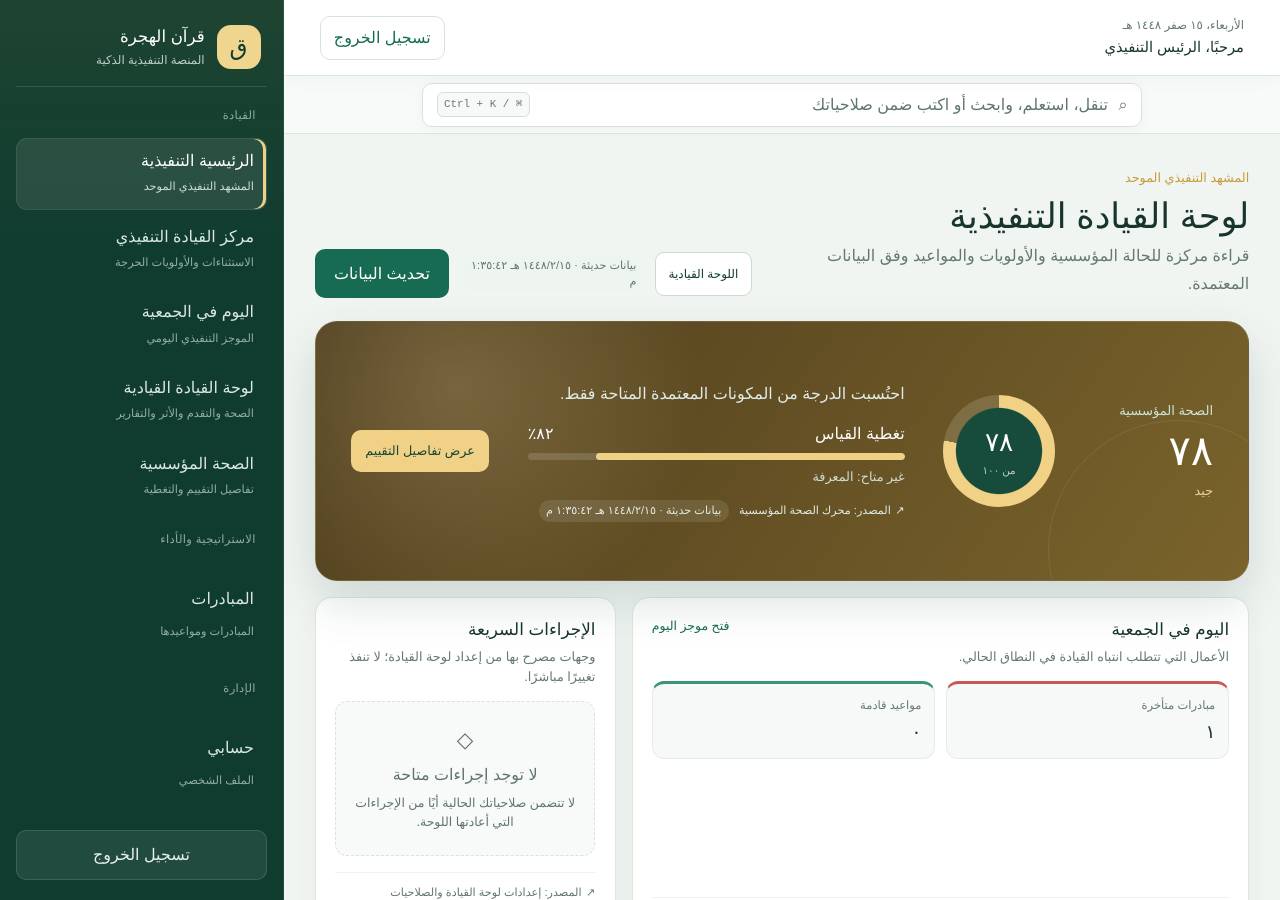
Test: Sprint 1C governed executive Smart Bar › runs structured queries explicitly, reports source and limitations, and retains input on error
The width and height of the screenshot is (1280, 900).
Check: the heading "لوحة القيادة التنفيذية" is shown, box [949, 196, 1249, 234]
Press k
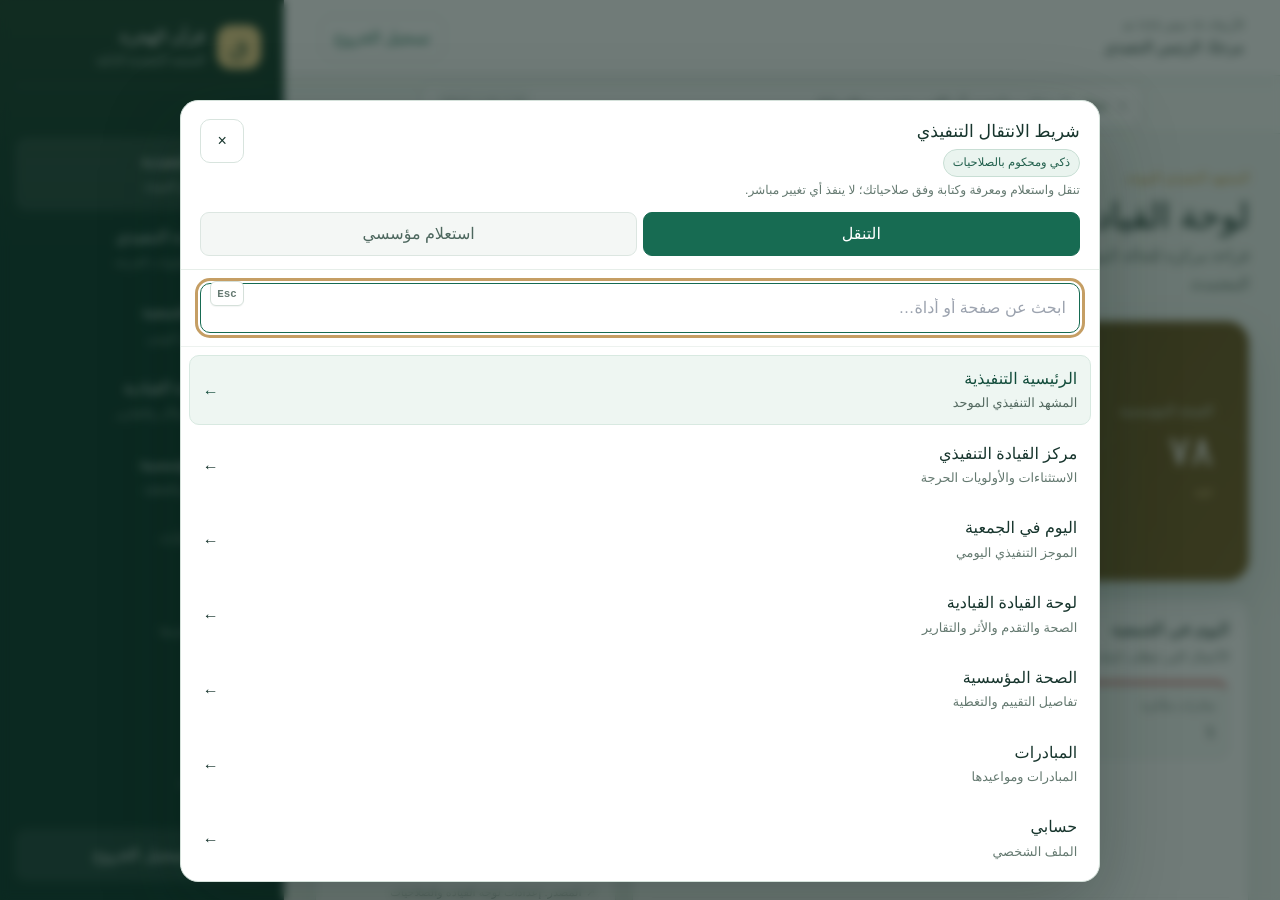
Click the tab "استعلام مؤسسي" at (419, 234), box [200, 212, 637, 256]
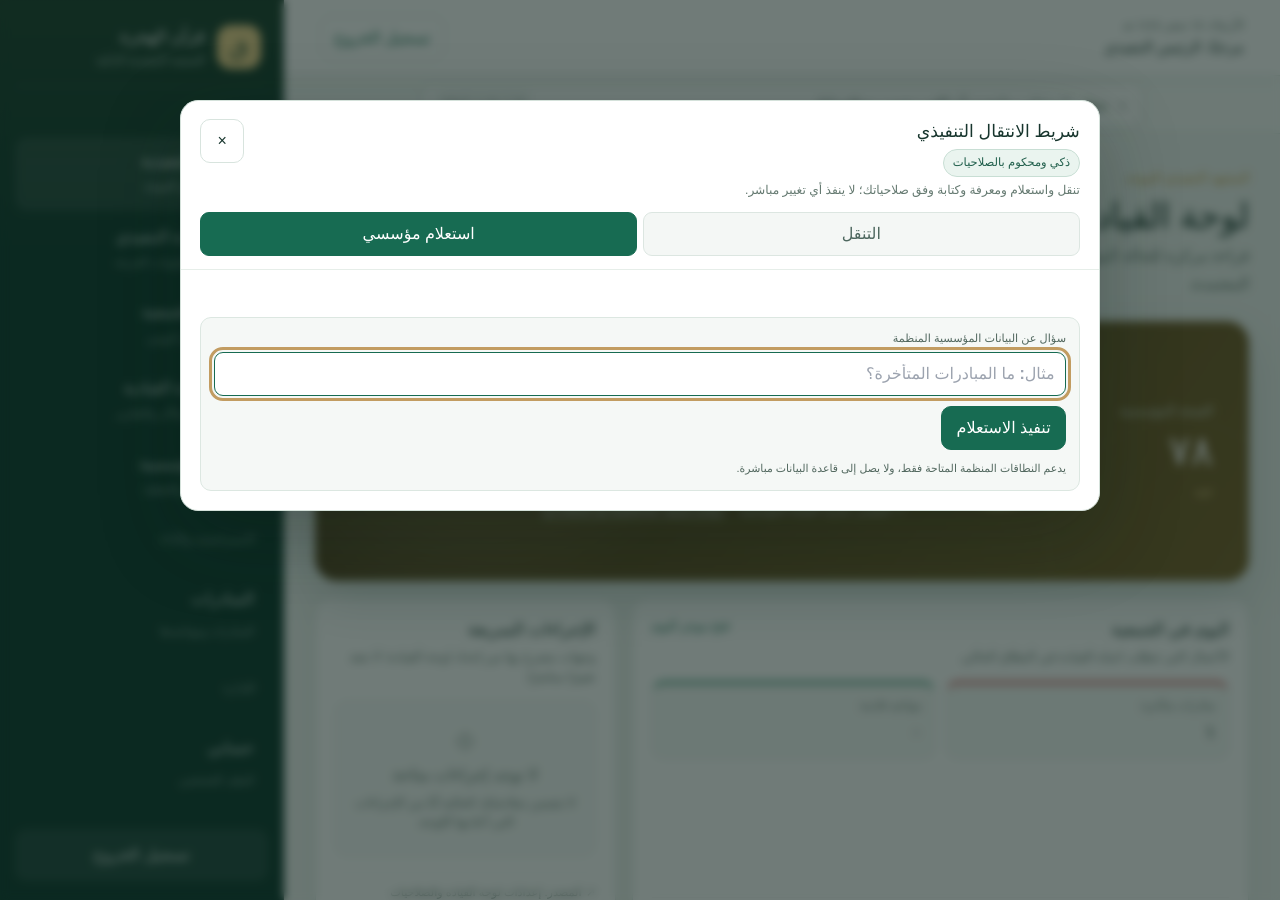
Type "ما المبادرات المتأخرة؟" into the field labelled "سؤال عن البيانات المؤسسية المنظمة" at (640, 374), box [214, 352, 1066, 396]
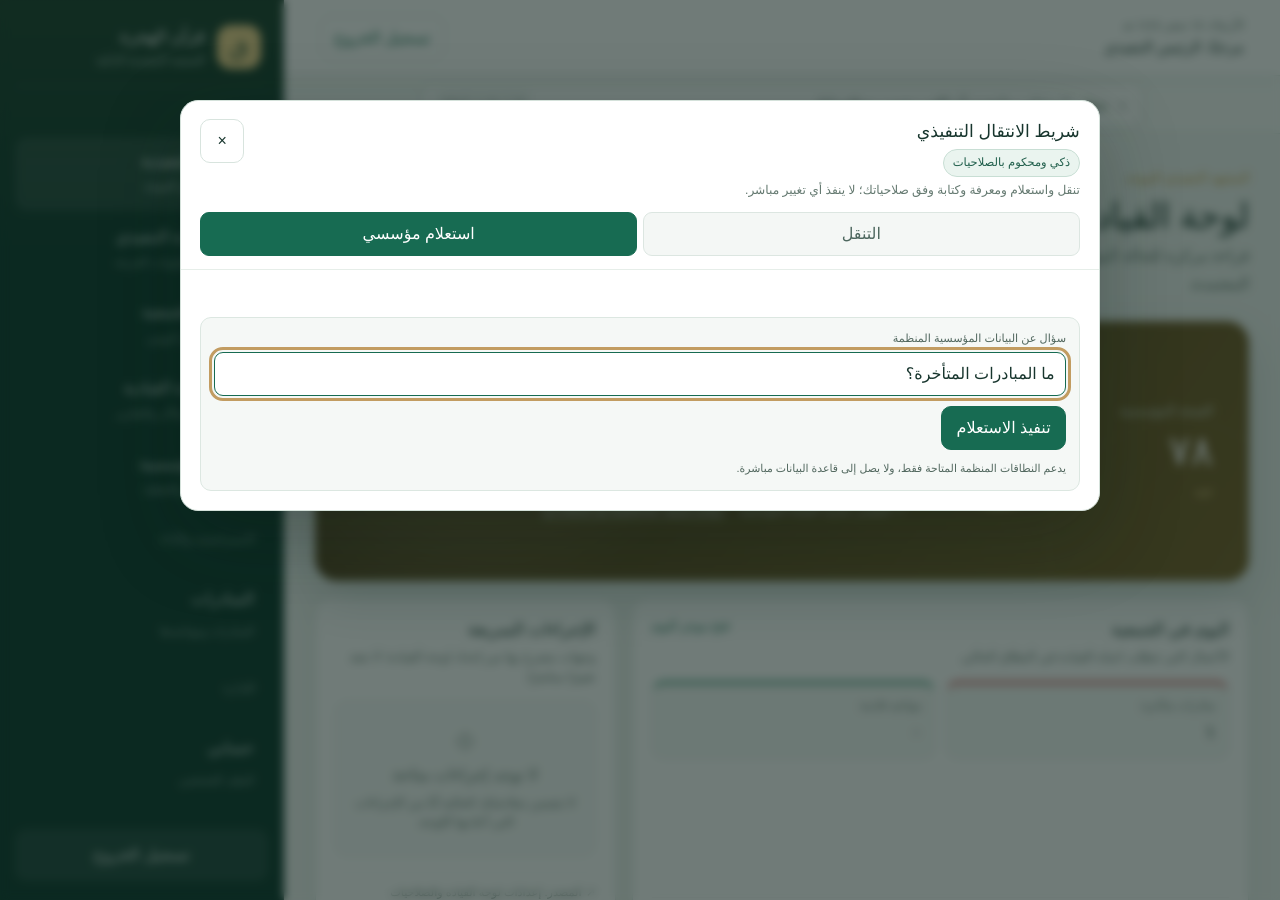
Click the button "تنفيذ الاستعلام" at (1004, 428), box [941, 406, 1066, 450]
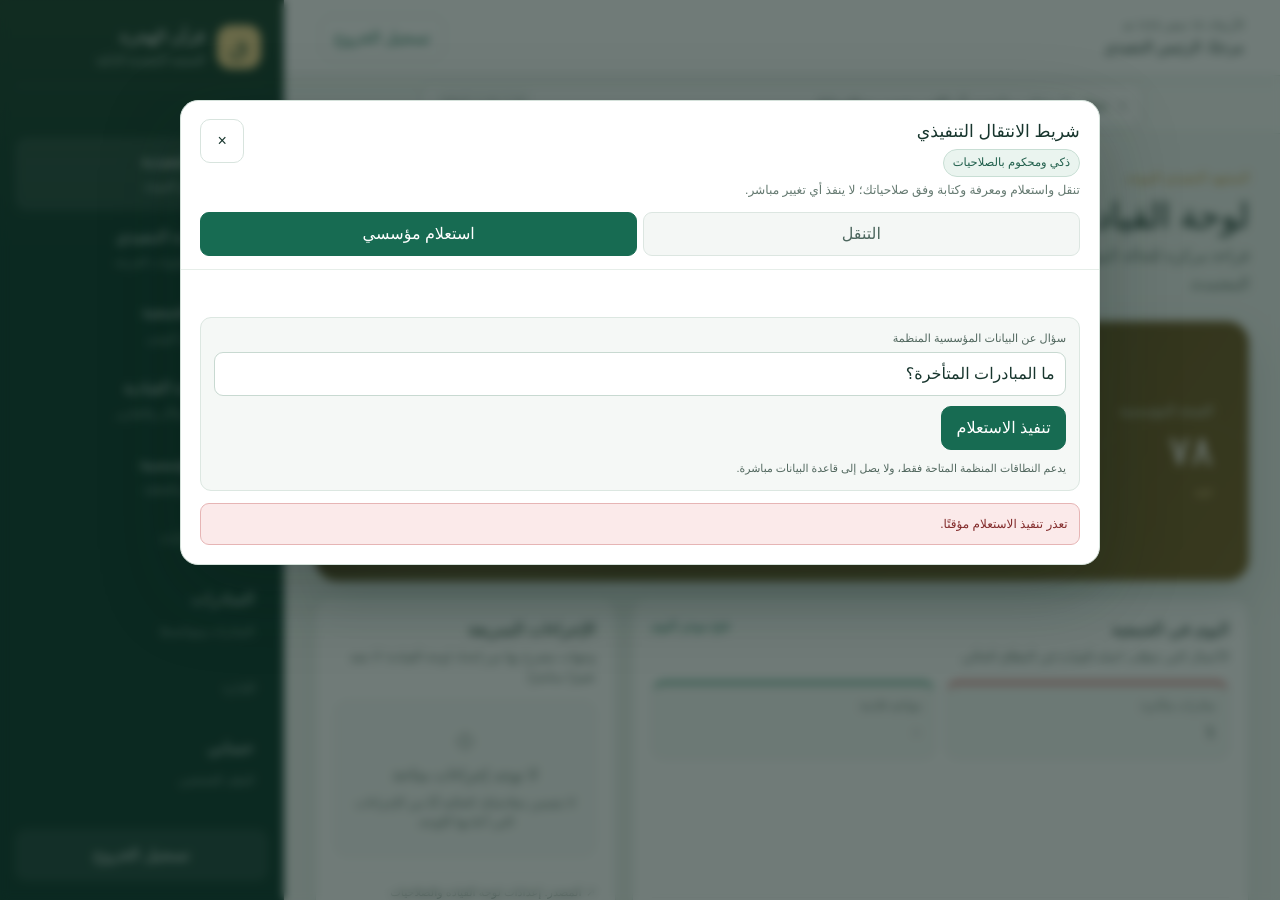
Check: the message reads "تعذر تنفيذ الاستعلام مؤقتًا.", box [940, 517, 1068, 531]
